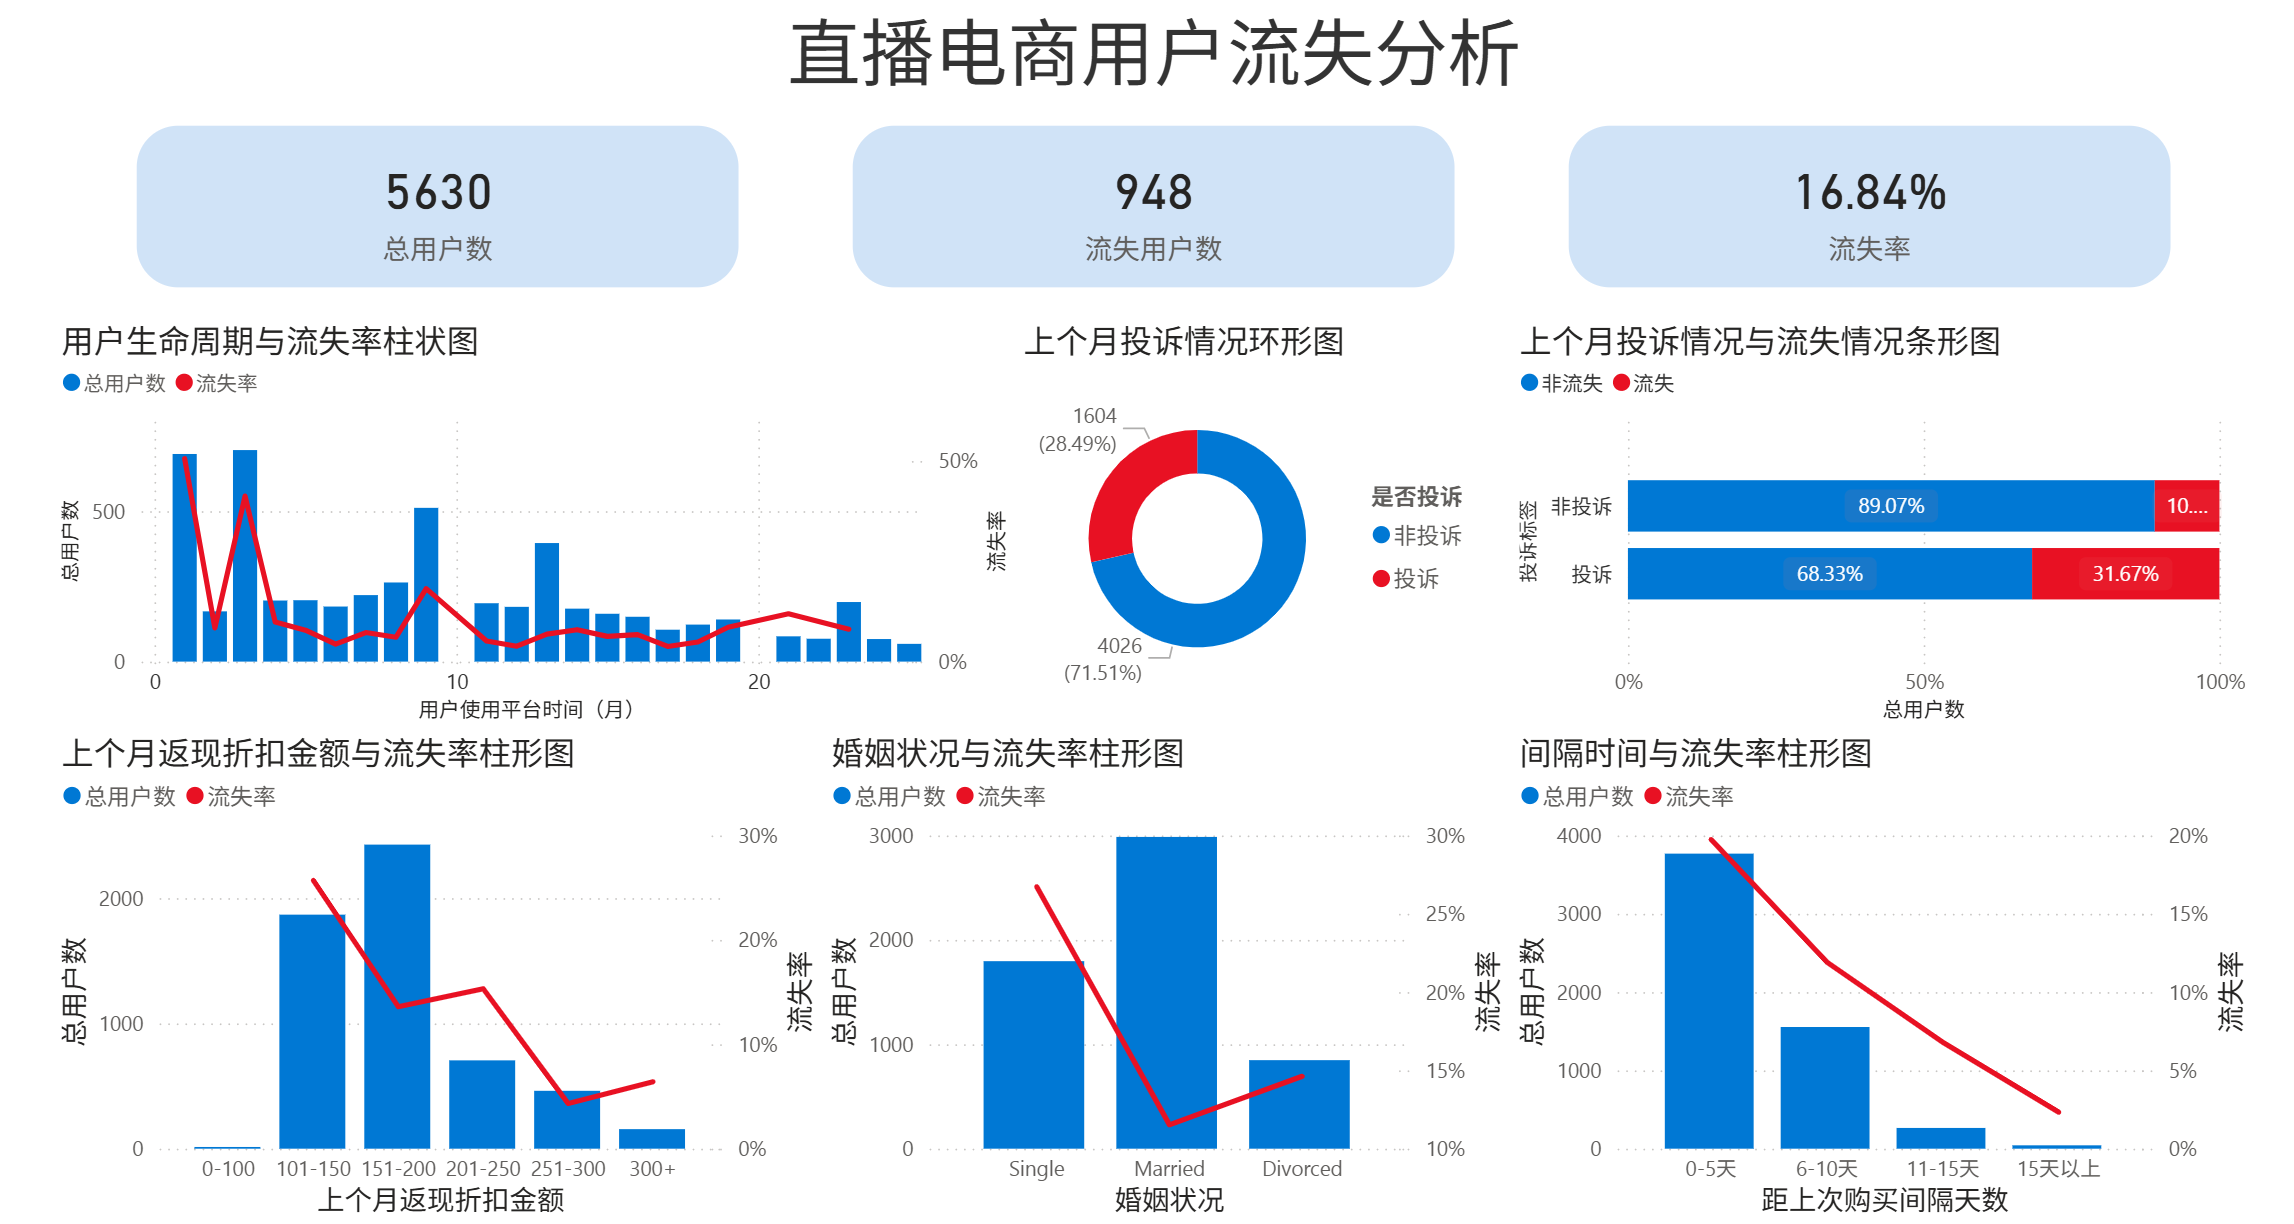

What the dashboard file says about the page in this screenshot:
{"tool":"powerbi","page":{"name":"直播电商用户流失分析","canvas":[1280,720],"ordinal":0},"visuals":[{"type":"card","fields":{"Values":["E Comm.总用户数"]},"box":[48,80,352,96],"z":0},{"type":"card","fields":{"Values":["E Comm.流失用户数"]},"box":[464,80,352,96],"z":1000},{"type":"card","fields":{"Values":["E Comm.流失率"]},"box":[880,80,352,96],"z":2000},{"type":"lineStackedColumnComboChart","title":"用户生命周期与流失率柱状图","fields":{"Category":["E Comm.Tenure"],"Y2":["E Comm.流失率"],"Y":["E Comm.总用户数"]},"box":[0,192,560,240],"z":3000},{"type":"hundredPercentStackedBarChart","title":"上个月投诉情况与流失情况条形图","fields":{"Category":["E Comm.投诉标签"],"Y":["E Comm.总用户数"],"Series":["E Comm.Churn Label"]},"box":[848,192,432,240],"z":4000},{"type":"lineClusteredColumnComboChart","title":"婚姻状况与流失率柱形图","fields":{"Category":["E Comm.MaritalStatus"],"Y":["E Comm.总用户数"],"Y2":["E Comm.流失率"]},"box":[448,432,400,288],"z":5000},{"type":"lineClusteredColumnComboChart","title":"间隔时间与流失率柱形图","fields":{"Category":["E Comm.DaySinceLastOrder_Group"],"Y2":["E Comm.流失率"],"Y":["E Comm.总用户数"]},"box":[848,432,432,288],"z":6000},{"type":"lineClusteredColumnComboChart","title":"上个月返现折扣金额与流失率柱形图","fields":{"Category":["E Comm.DiscountAmount_Group"],"Y":["E Comm.总用户数"],"Y2":["E Comm.流失率"]},"box":[0,432,448,288],"z":7000},{"type":"textbox","box":[416,0,448,80],"z":11000},{"type":"donutChart","title":"上个月投诉情况环形图","fields":{"Category":["E Comm.投诉标签"],"Y":["E Comm.总用户数"]},"box":[560,192,288,240],"z":12000}]}

Visuals, with their boxes on the page's 1280x720 design canvas (x1, y1, x2, y2). These are canvas units, not pixel positions in the 2294x1224 screenshot, which may show the page scaled, cropped or inside an application window:
card - E Comm.总用户数: [x1=48, y1=80, x2=400, y2=176]
card - E Comm.流失用户数: [x1=464, y1=80, x2=816, y2=176]
card - E Comm.流失率: [x1=880, y1=80, x2=1232, y2=176]
"用户生命周期与流失率柱状图" lineStackedColumnComboChart: [x1=0, y1=192, x2=560, y2=432]
"上个月投诉情况与流失情况条形图" hundredPercentStackedBarChart: [x1=848, y1=192, x2=1280, y2=432]
"婚姻状况与流失率柱形图" lineClusteredColumnComboChart: [x1=448, y1=432, x2=848, y2=720]
"间隔时间与流失率柱形图" lineClusteredColumnComboChart: [x1=848, y1=432, x2=1280, y2=720]
"上个月返现折扣金额与流失率柱形图" lineClusteredColumnComboChart: [x1=0, y1=432, x2=448, y2=720]
textbox: [x1=416, y1=0, x2=864, y2=80]
"上个月投诉情况环形图" donutChart: [x1=560, y1=192, x2=848, y2=432]
